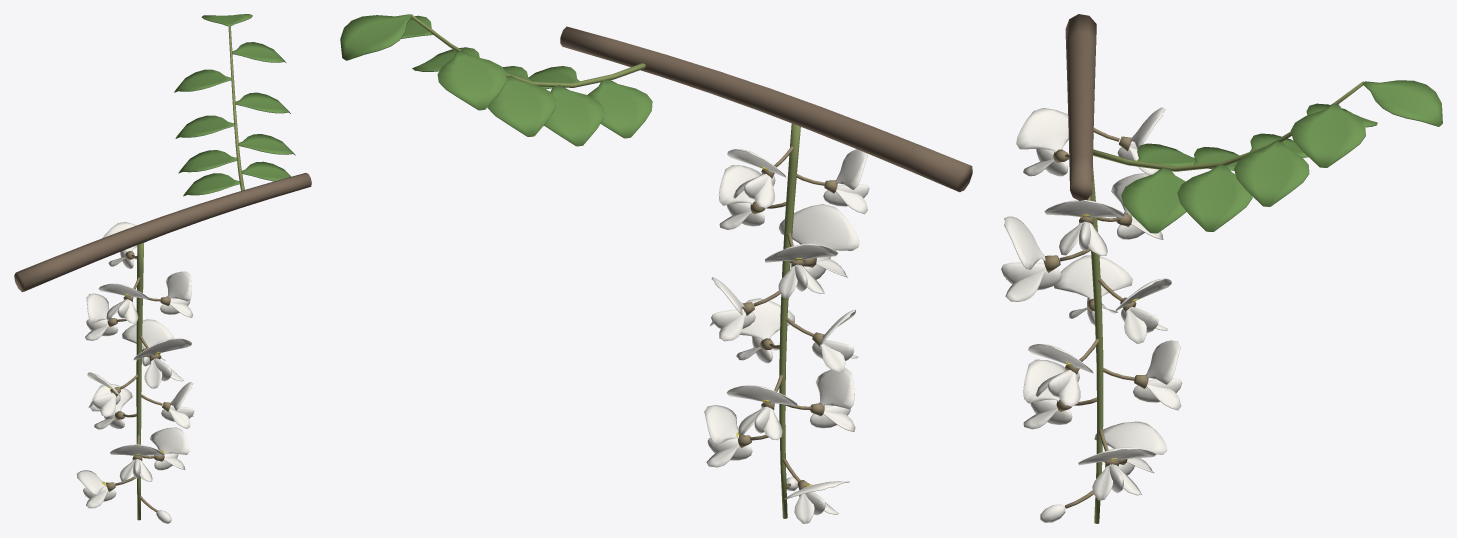
The model's file is flower-robinia.glb.
3 renders of one model, left to right at view 1: azimuth 30°, elevation 25°; view 2: azimuth 150°, elevation 25°; view 3: azimuth 270°, elevation 25°, orthographic. The views are drawn at different scales.
Parts seen in each view (by area): view 1: raceme_flowers, leaves, branch, raceme_axis, hero_petals, hero_wings; view 2: raceme_flowers, leaves, branch, raceme_axis, hero_petals; view 3: raceme_flowers, leaves, branch, raceme_axis, hero_petals, hero_keel_full, hero_wings.
Boxes of the visible parts, x1,y1,x2,y2 form: raceme_flowers: (76,222,194,523); leaves: (174,14,295,196); branch: (14,173,311,292); raceme_axis: (136,242,143,520); hero_petals: (134,338,191,359); hero_wings: (144,358,183,388); raceme_flowers: (704,146,869,523); leaves: (340,14,652,146); branch: (560,26,972,192); raceme_axis: (779,123,800,518); hero_petals: (778,204,859,250); raceme_flowers: (1016,107,1181,522); leaves: (1093,80,1442,233); branch: (1065,14,1096,200); raceme_axis: (1090,167,1103,523); hero_petals: (1004,216,1045,269); hero_keel_full: (1001,262,1061,290); hero_wings: (1005,267,1046,301).
Size of the model in its own units: 15.74 by 16.58 by 11.61.
